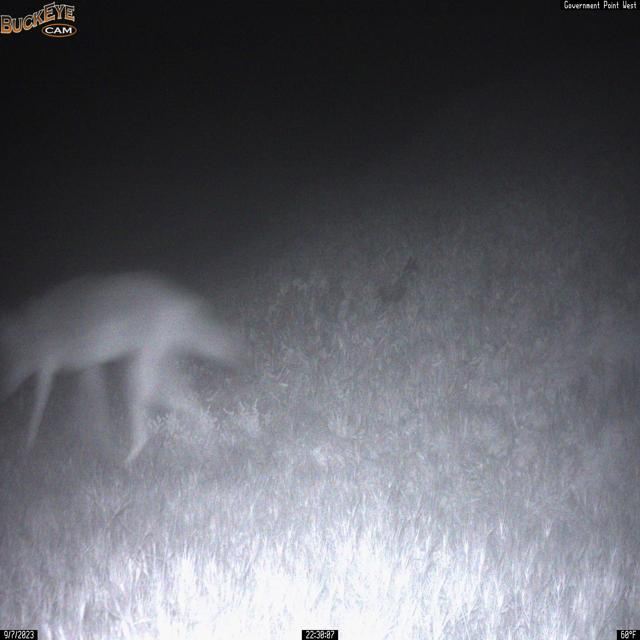coyote: (0, 265, 247, 474)
